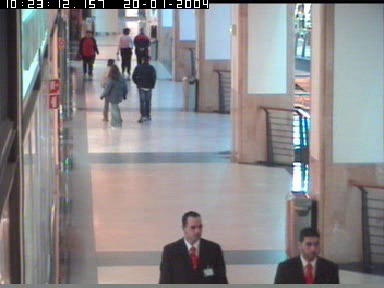person: (158, 212, 228, 284), (273, 227, 339, 285), (100, 65, 126, 127), (132, 56, 156, 122), (76, 29, 98, 81), (102, 58, 118, 123), (116, 27, 133, 73), (134, 29, 152, 69), (148, 8, 158, 39)
